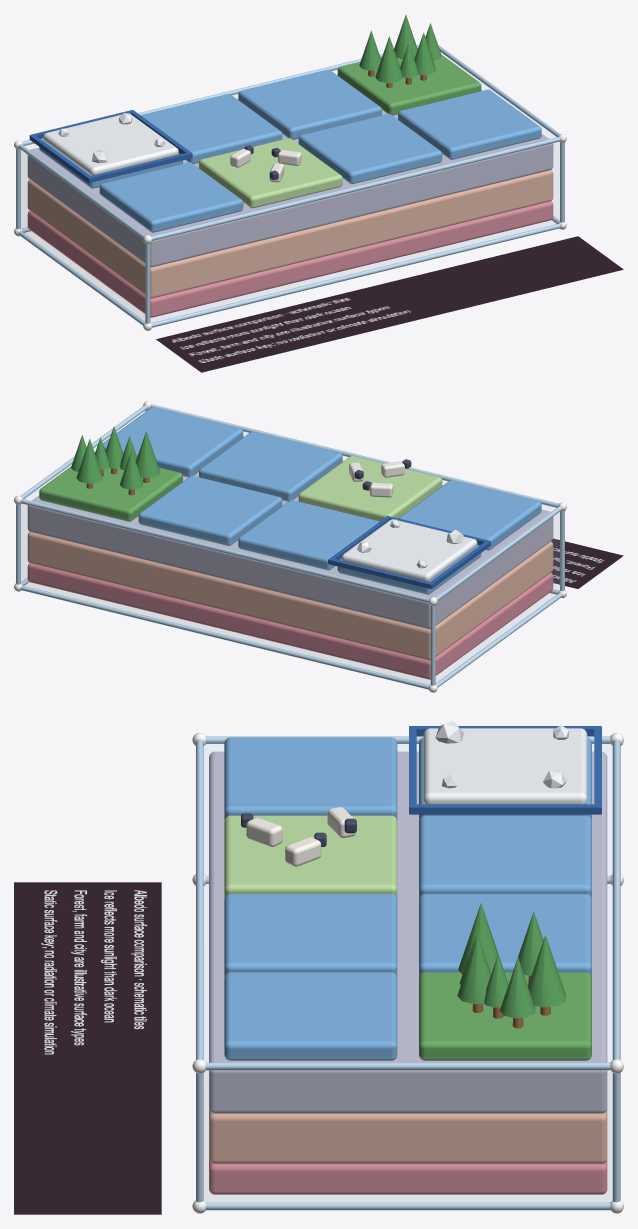
The model's file is climate.glb.
3 renders of one model, top to bottom at view 1: azimuth 30°, elevation 25°; view 2: azimuth 150°, elevation 25°; view 3: azimuth 270°, elevation 25°, orthographic. The views are drawn at different scales.
Parts seen in each view (by area): view 1: climate_authored_teaching_model, Scale_and_credit; view 2: climate_authored_teaching_model, Scale_and_credit; view 3: climate_authored_teaching_model, Scale_and_credit.
Boxes of the visible parts, box(x1,y1,x2,y2) form: climate_authored_teaching_model: box(14, 15, 566, 330); Scale_and_credit: box(156, 236, 623, 372); climate_authored_teaching_model: box(14, 401, 566, 692); Scale_and_credit: box(551, 538, 623, 588); climate_authored_teaching_model: box(192, 721, 623, 1213); Scale_and_credit: box(14, 882, 161, 1214).
Size of the model in its own units: 0.5095 by 0.1736 by 0.395.
Materials: 22 (1 with a texture image).
